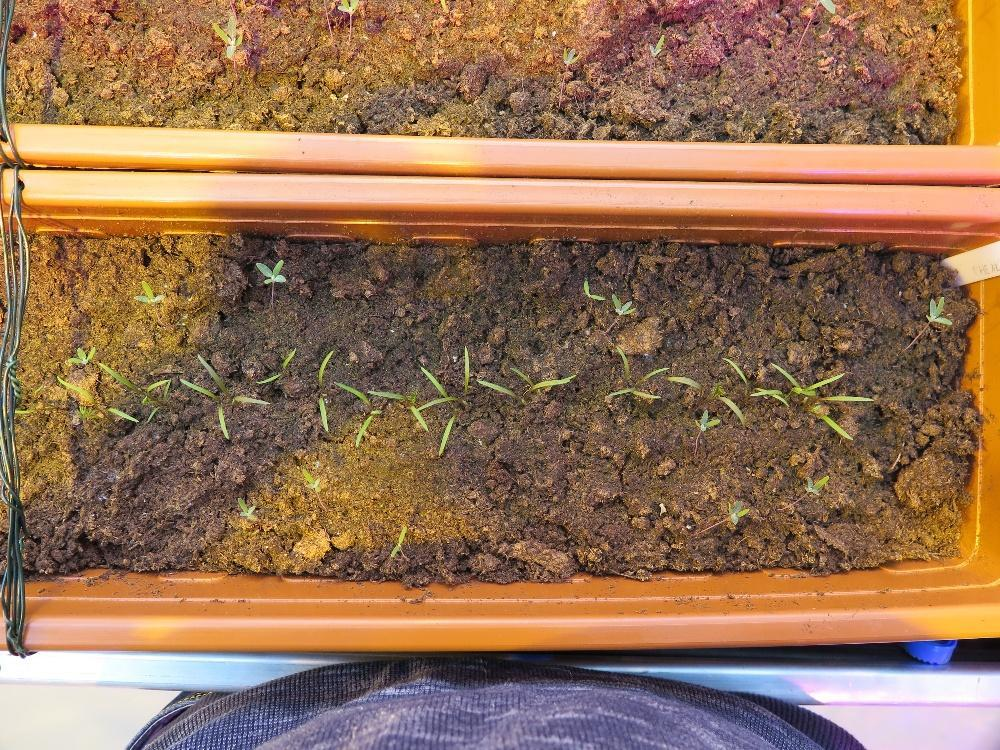weed: (210, 13, 242, 58), (130, 277, 165, 303), (254, 255, 286, 283), (925, 294, 953, 324), (724, 496, 750, 525), (692, 408, 721, 433), (64, 342, 95, 365), (609, 292, 636, 315), (804, 472, 829, 495), (389, 524, 406, 557), (582, 277, 606, 300), (300, 466, 321, 492), (235, 495, 256, 519), (647, 32, 665, 58), (561, 44, 580, 66)
